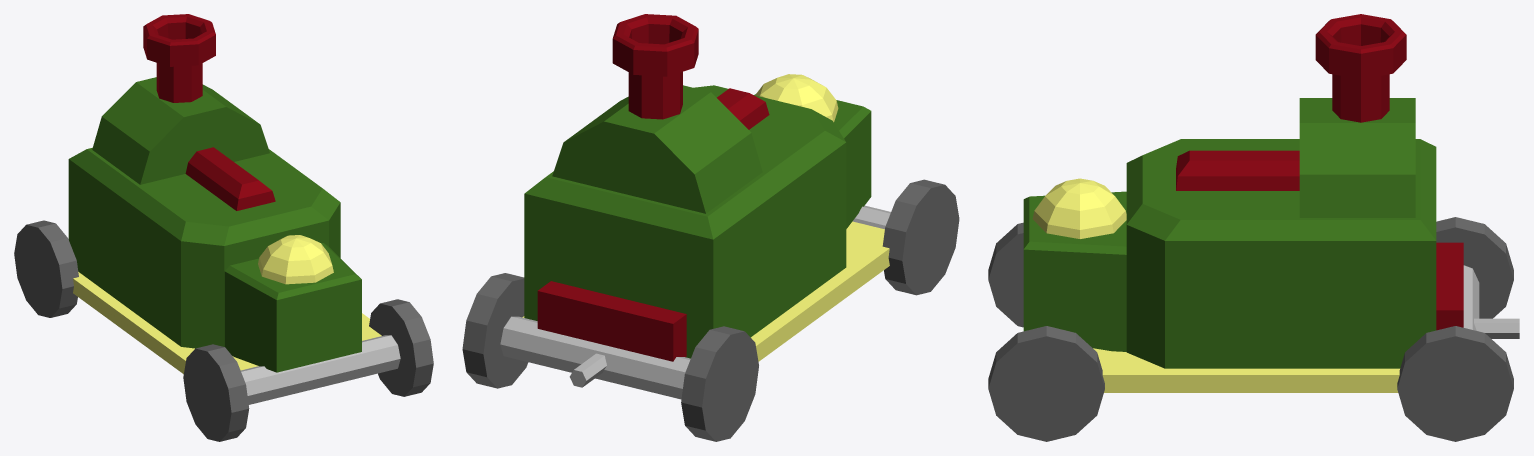
File: train1.fbx
3 renders of one model, left to right at view 1: azimuth 30°, elevation 25°; view 2: azimuth 150°, elevation 25°; view 3: azimuth 270°, elevation 25°, orthographic. The views are drawn at different scales.
Parts seen in each view (by area): view 1: train1; view 2: train1; view 3: train1.
Boxes of the visible parts, bbox=[...] form: train1: bbox=[14, 14, 433, 441]; train1: bbox=[462, 14, 959, 441]; train1: bbox=[988, 14, 1519, 441].
Size of the model in its own units: 163 by 224 by 307.
